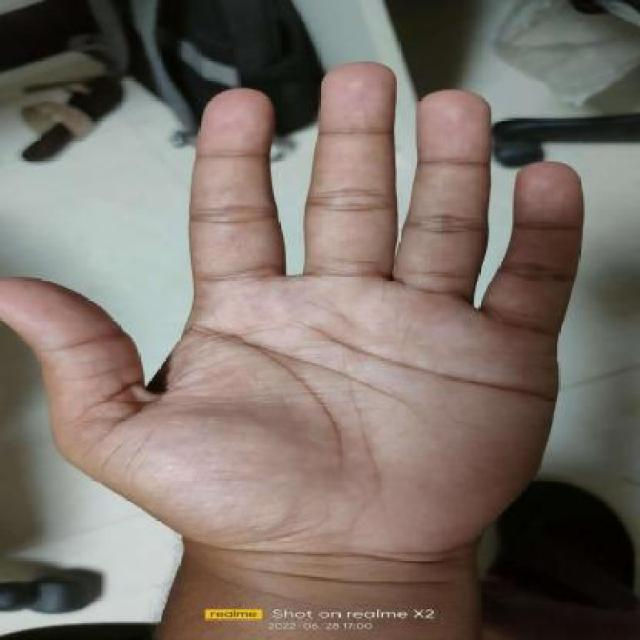no-gloves: (5, 0, 597, 607), (119, 78, 573, 554), (139, 267, 548, 623), (180, 56, 588, 412), (185, 118, 498, 530)
